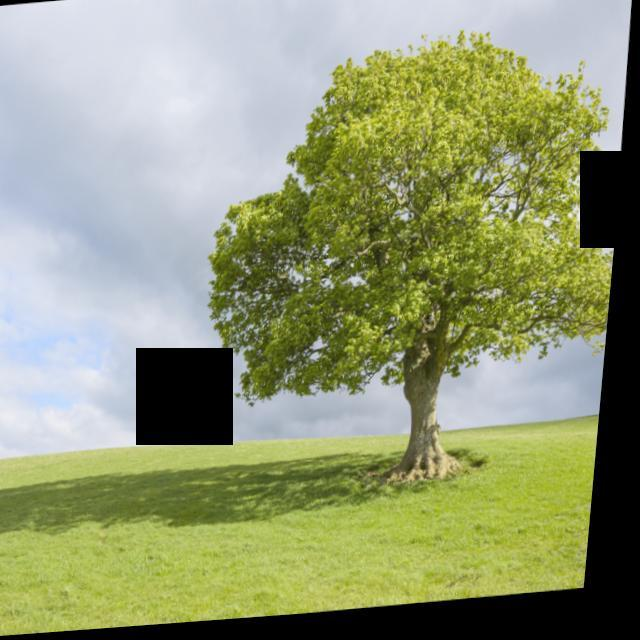Tree: (193, 31, 637, 506)
